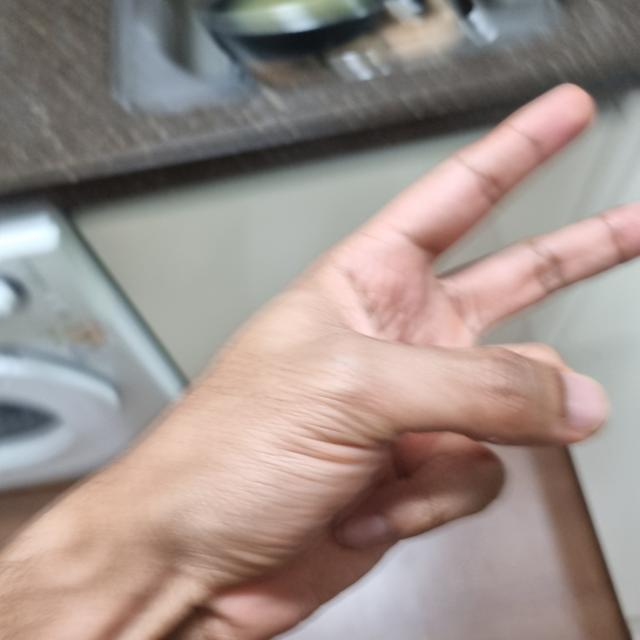Scissors: (96, 90, 640, 637)
